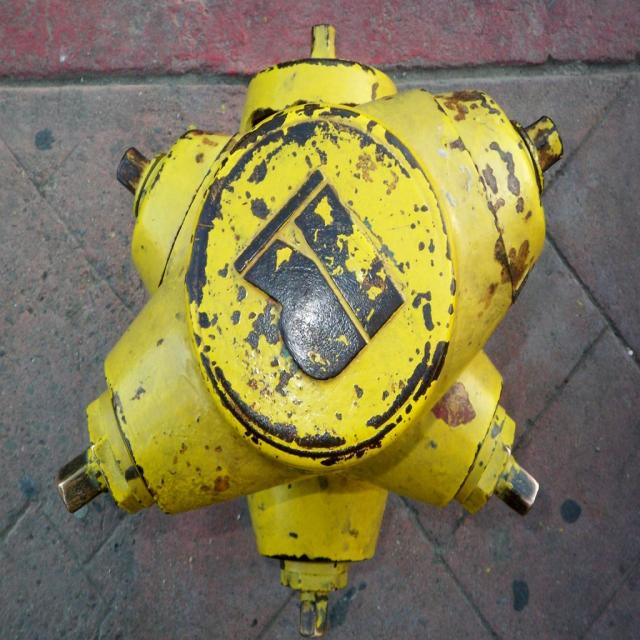fire_hydrant: (59, 21, 565, 638)
